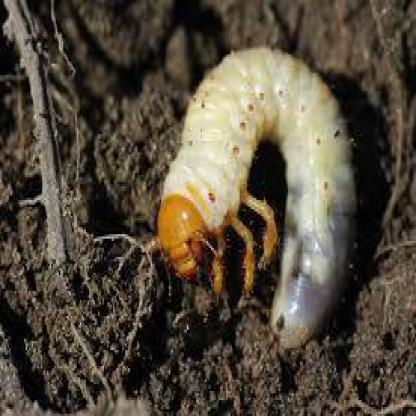root grubs: (159, 50, 359, 349)
